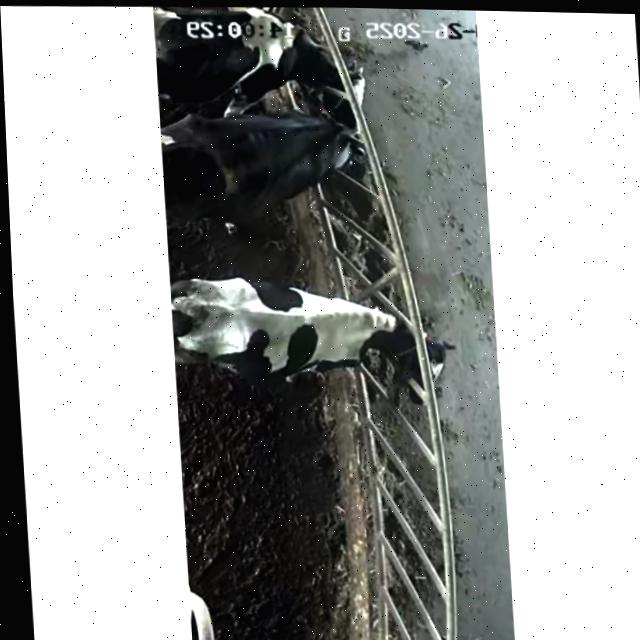eat: (303, 278, 487, 404), (223, 5, 405, 120), (241, 108, 448, 200)
